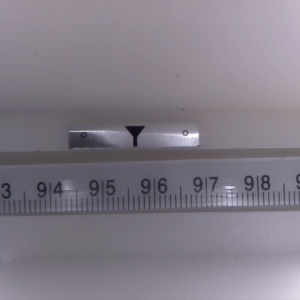3: (0, 183, 11, 198)
4: (52, 181, 63, 196)
5: (105, 179, 115, 195)
6: (157, 177, 167, 193)
7: (208, 177, 218, 191)
8: (260, 175, 269, 190)
9: (140, 177, 151, 194), (88, 180, 99, 195), (36, 183, 47, 198), (192, 177, 202, 192), (244, 176, 253, 191), (295, 173, 300, 190)
finger: (123, 126, 146, 149)
